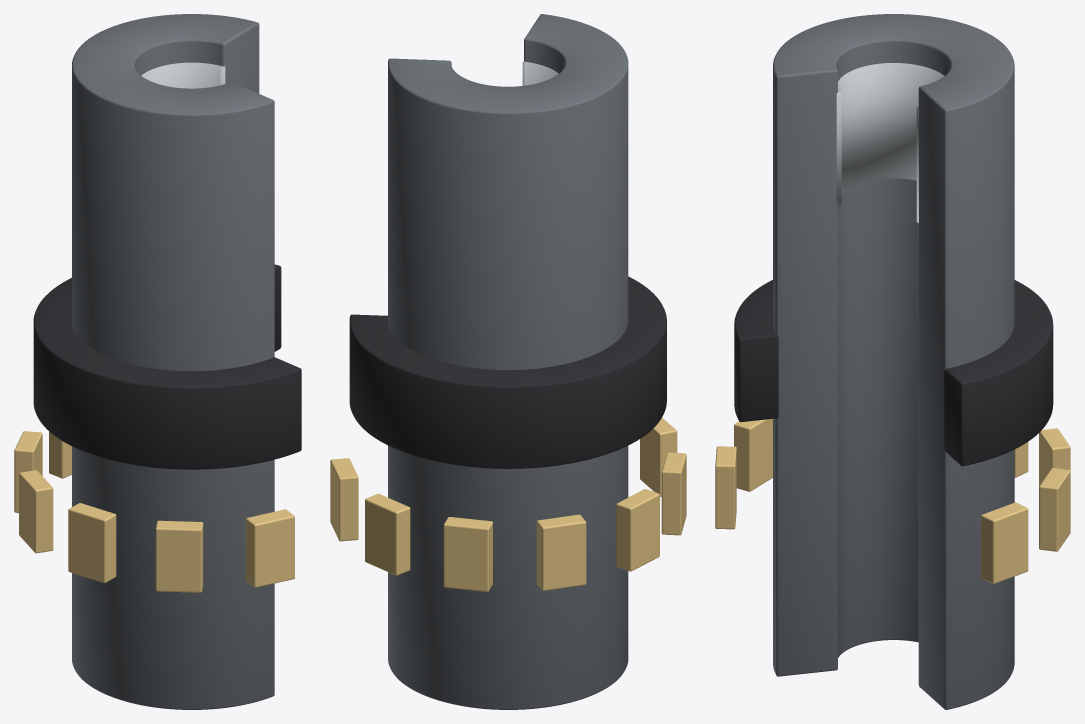
The model's file is cement-retainer.glb.
3 renders of one model, left to right at view 1: azimuth 30°, elevation 25°; view 2: azimuth 150°, elevation 25°; view 3: azimuth 270°, elevation 25°, orthographic.
Visible parts, largest first — view 1: Cast iron retainer, Retainer element, Retainer slip 7, Retainer slip 6, Retainer slip 5, Retainer slip 4, Stinger receptacle, Retainer slip 3, Retainer slip 2; view 2: Cast iron retainer, Retainer element, Retainer slip 3, Retainer slip 2, Retainer slip 1, Retainer slip 4, Retainer slip 0, Retainer slip 5, Retainer slip 6, Stinger receptacle; view 3: Cast iron retainer, Retainer element, Stinger receptacle, Retainer slip 0, Retainer slip 6, Retainer slip 1, Retainer slip 7, Retainer slip 2.
Boxes of the visible parts, x1,y1,x2,y2 form: Cast iron retainer: [72, 14, 274, 709]; Retainer element: [33, 264, 301, 469]; Retainer slip 7: [245, 509, 294, 587]; Retainer slip 6: [155, 520, 203, 592]; Retainer slip 5: [68, 503, 116, 582]; Retainer slip 4: [19, 470, 53, 553]; Stinger receptacle: [141, 62, 225, 88]; Retainer slip 3: [14, 431, 42, 512]; Retainer slip 2: [49, 431, 71, 478]; Cast iron retainer: [388, 14, 628, 709]; Retainer element: [349, 276, 666, 468]; Retainer slip 3: [536, 514, 586, 590]; Retainer slip 2: [443, 517, 492, 591]; Retainer slip 1: [365, 493, 410, 575]; Retainer slip 4: [616, 489, 659, 571]; Retainer slip 0: [330, 458, 358, 541]; Retainer slip 5: [661, 452, 686, 535]; Retainer slip 6: [640, 418, 677, 496]; Stinger receptacle: [522, 61, 558, 85]; Cast iron retainer: [773, 14, 1014, 709]; Retainer element: [734, 280, 1053, 466]; Stinger receptacle: [836, 63, 944, 223]; Retainer slip 0: [981, 502, 1028, 583]; Retainer slip 6: [734, 418, 772, 491]; Retainer slip 1: [1039, 468, 1070, 551]; Retainer slip 7: [715, 446, 736, 529]; Retainer slip 2: [1039, 428, 1070, 486].
Bounding box in the file's own units: 1.95 × 3.95 × 2.12.
